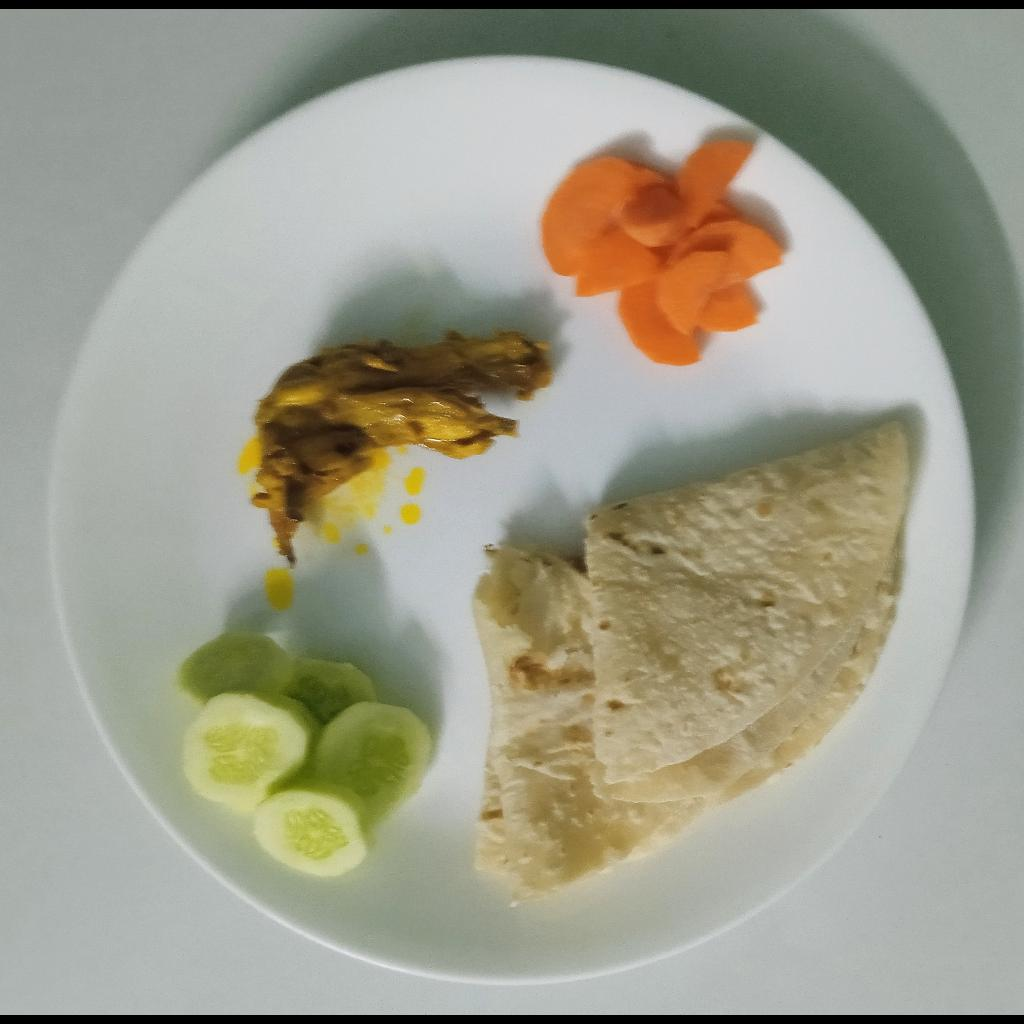carrot: (538, 133, 786, 363)
chicken: (246, 328, 549, 569)
cucumber: (175, 628, 438, 877)
ruti: (470, 422, 917, 904)
